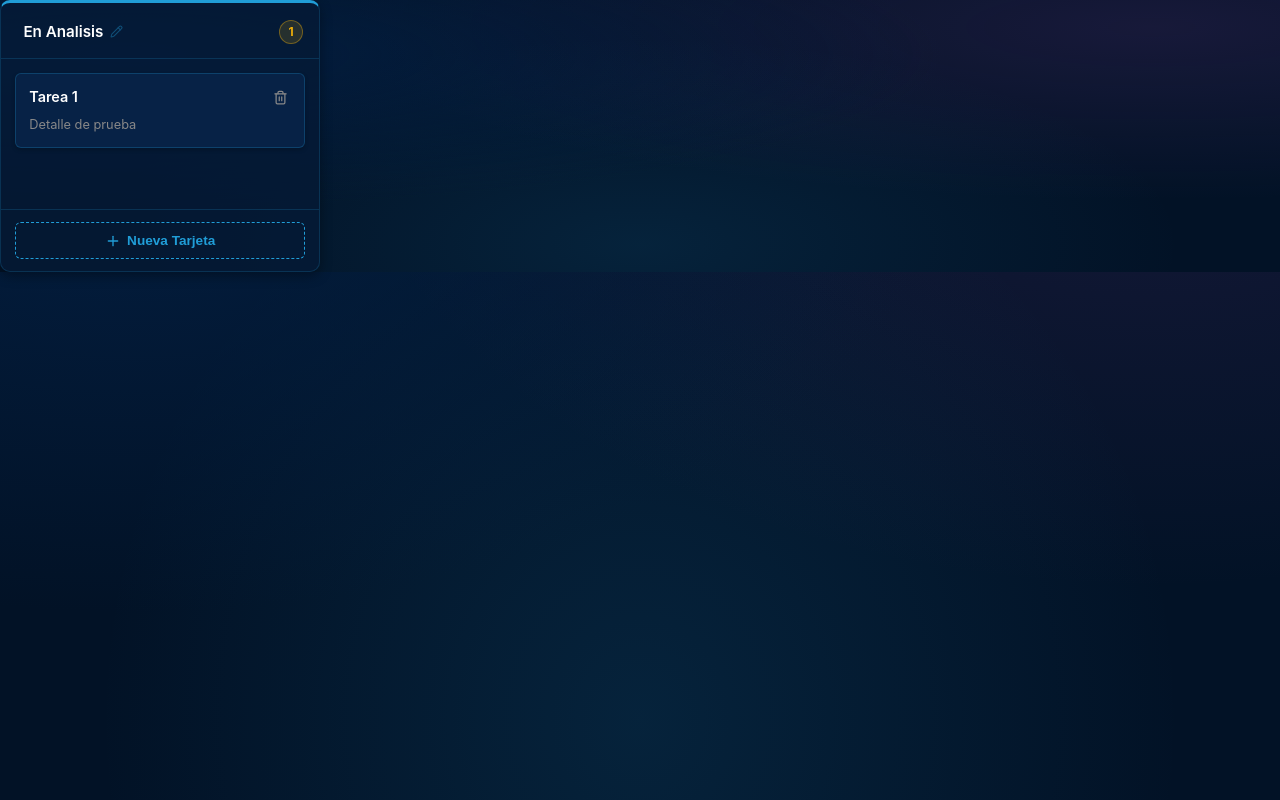
Column component › cancela la edicion al pulsar Escape
Click the element with test id "column-title-display-col-1".
click(73, 32)  # box [17,19,129,44]
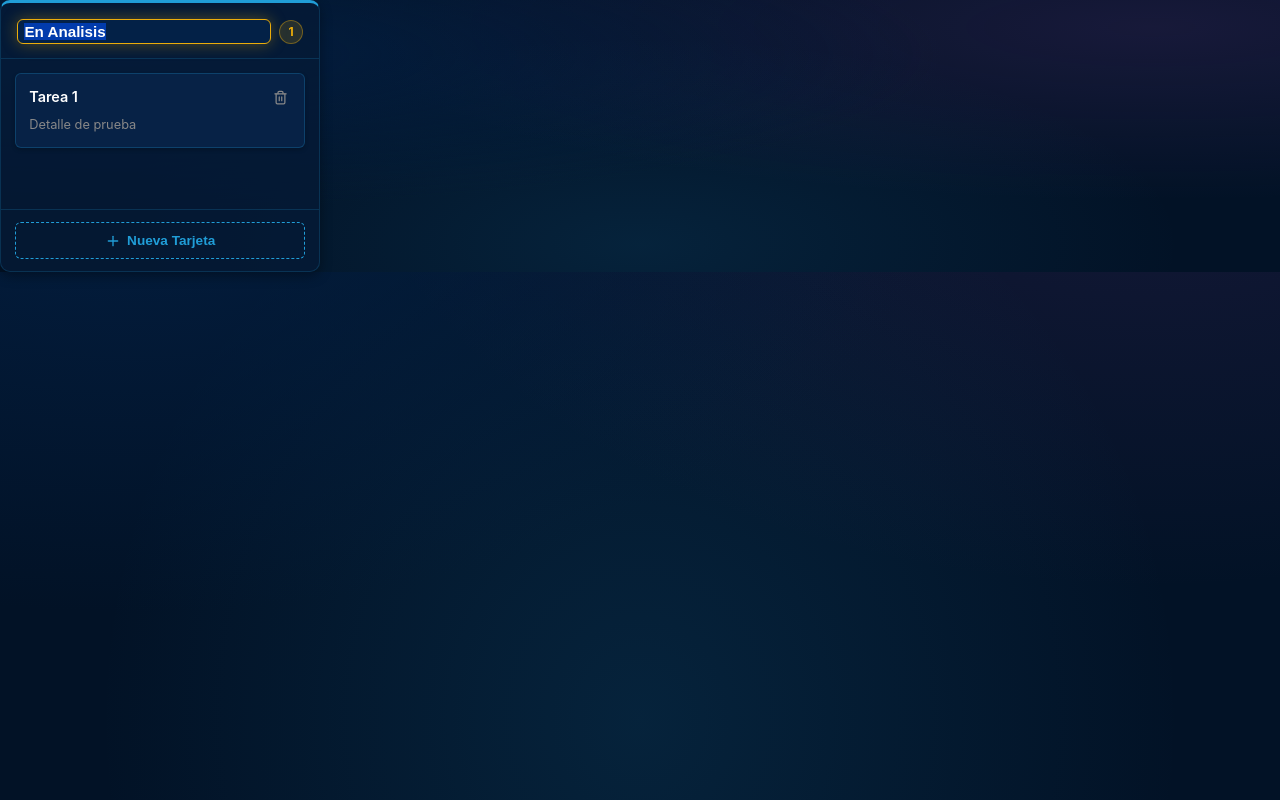
Replace the text in the field with test id "column-title-input-col-1" with "Texto cancelado" at (144, 32), box [17,19,271,44]
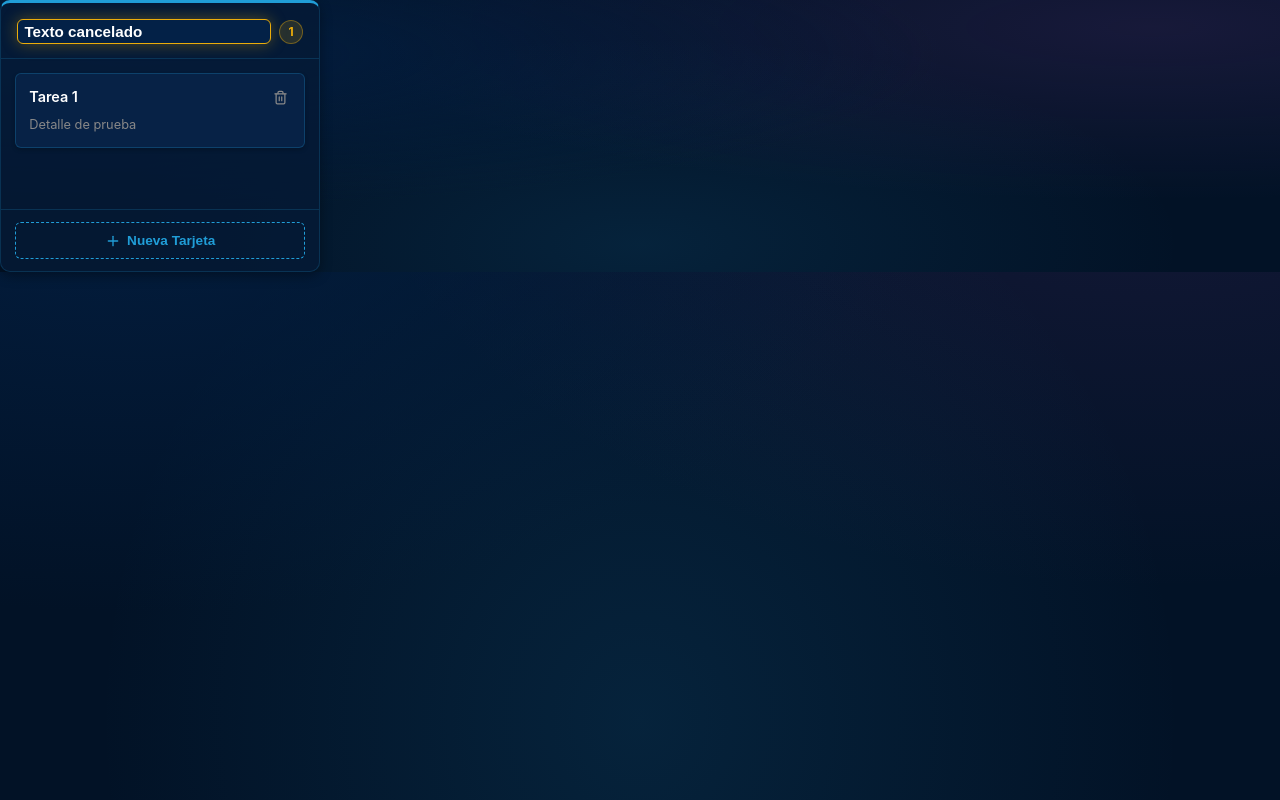
Press Escape in the field with test id "column-title-input-col-1", box [17,19,271,44]
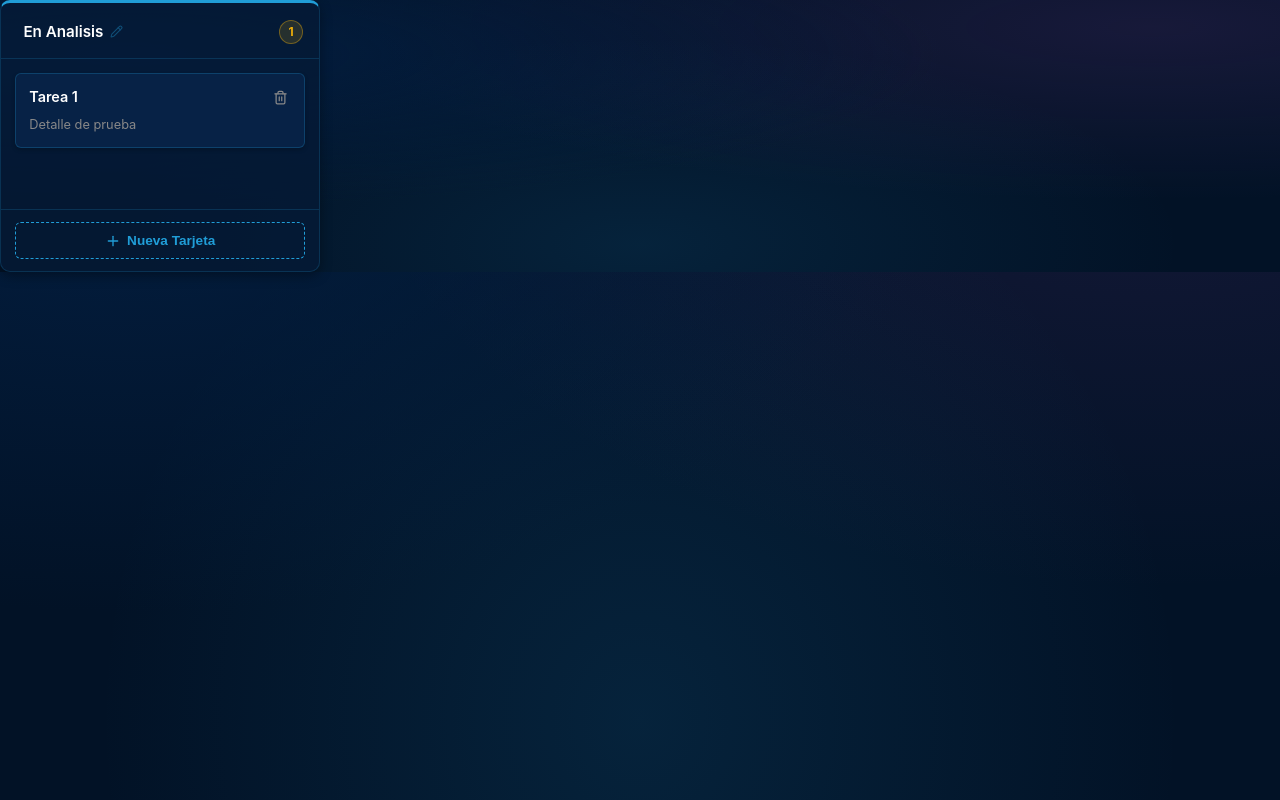
expect the heading with test id "column-title-col-1" reads "En Analisis": met, box [23,22,103,41]
